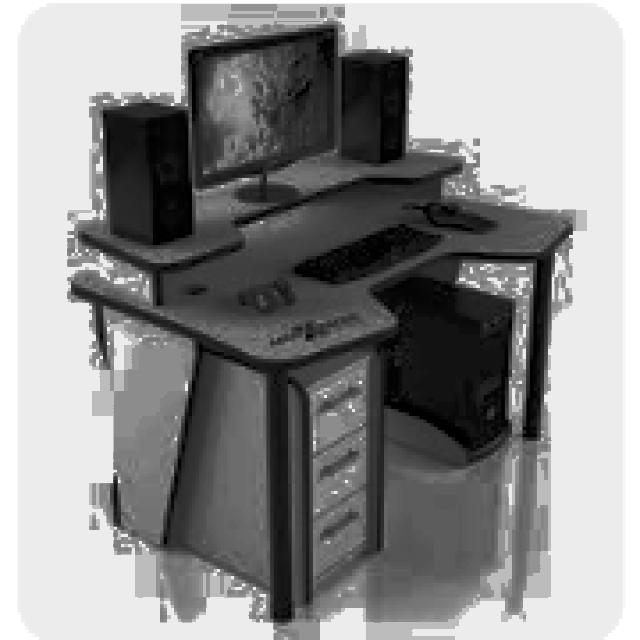table: (68, 153, 572, 619)
